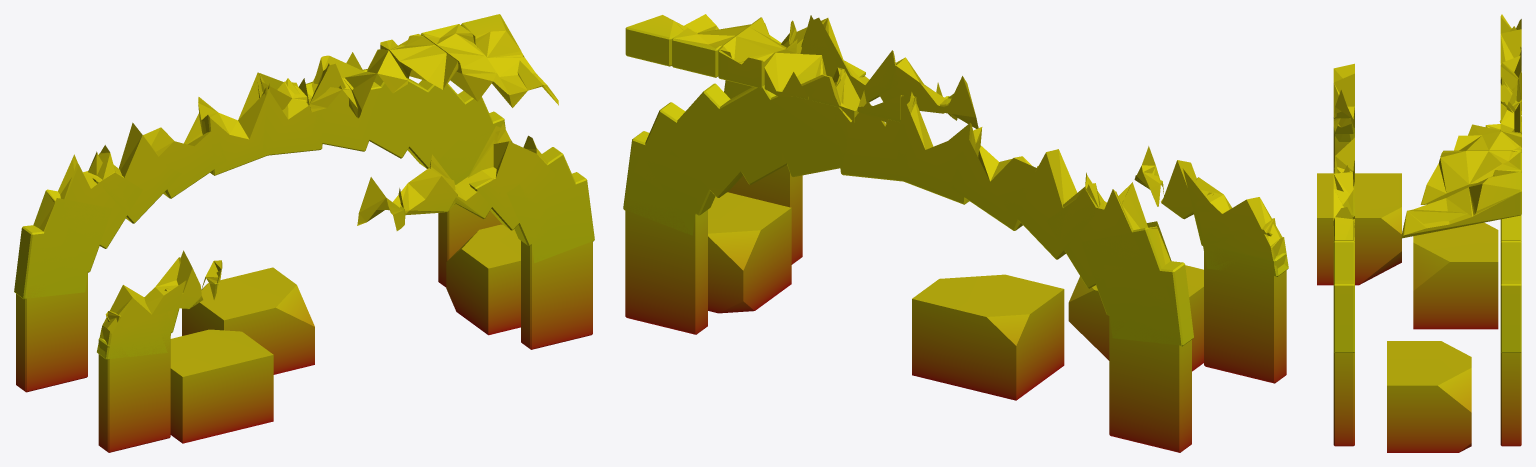
The model's file is bridge_span_broken.glb.
3 renders of one model, left to right at view 1: azimuth 30°, elevation 25°; view 2: azimuth 150°, elevation 25°; view 3: azimuth 270°, elevation 25°, orthographic. The views are drawn at different scales.
Visible parts, largest first — view 1: bridge_span_broken; view 2: bridge_span_broken; view 3: bridge_span_broken.
Boxes of the visible parts, box(x1,y1,x2,y2) form: bridge_span_broken: box(14, 14, 594, 452); bridge_span_broken: box(623, 14, 1288, 452); bridge_span_broken: box(1317, 14, 1521, 452).
Size of what is drawn, in the model's own units: 12.34 by 6 by 4.35.
